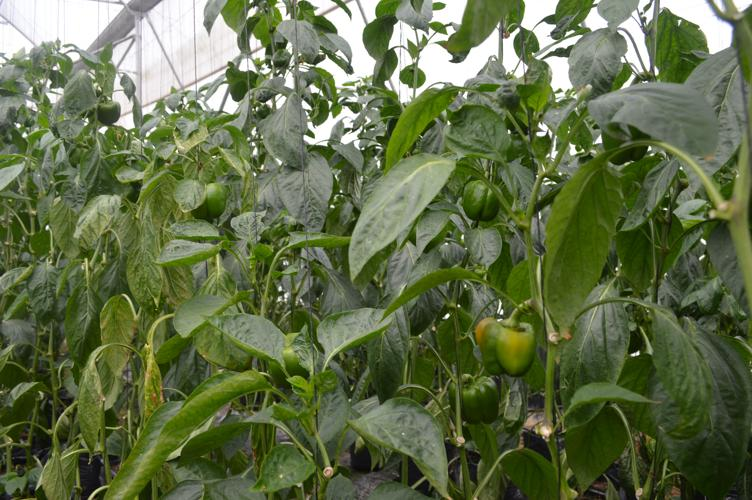BellPepper: (483, 320, 535, 380), (447, 379, 504, 423), (269, 333, 310, 385), (461, 179, 500, 222), (190, 183, 231, 218)
